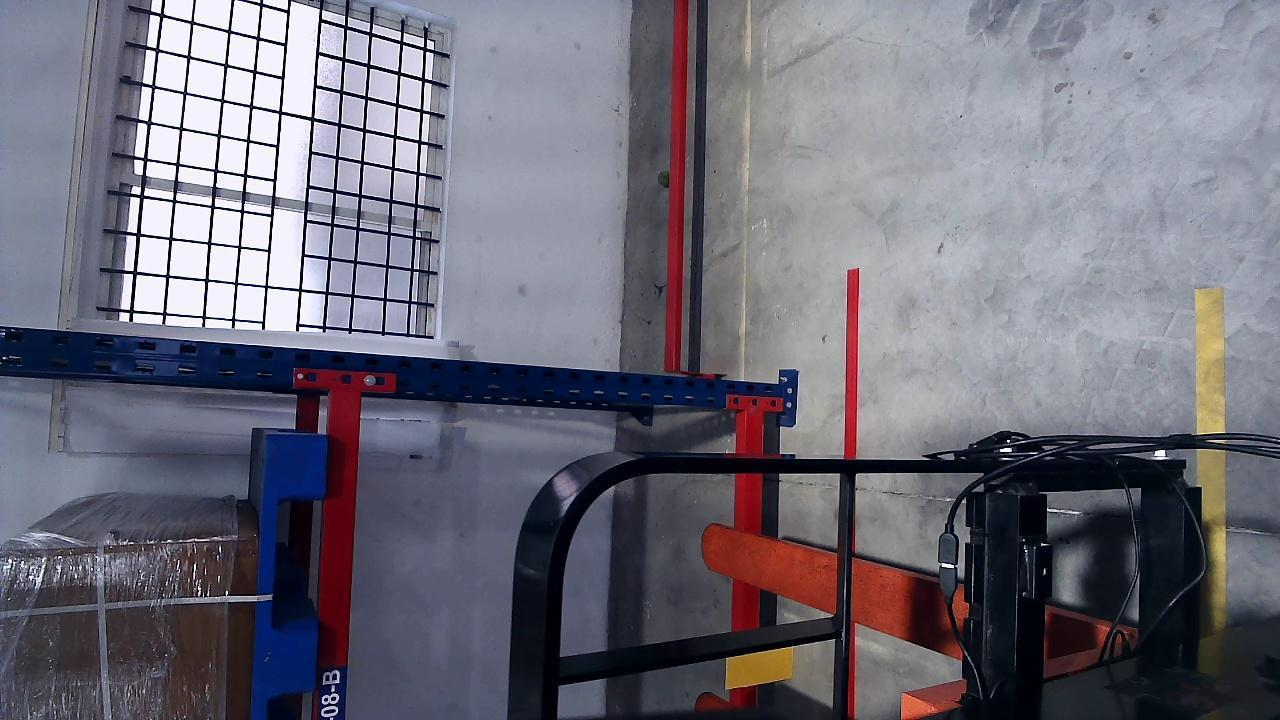red_line: (844, 267, 861, 456)
yellow_line: (1199, 449, 1231, 675), (1194, 286, 1226, 433)
